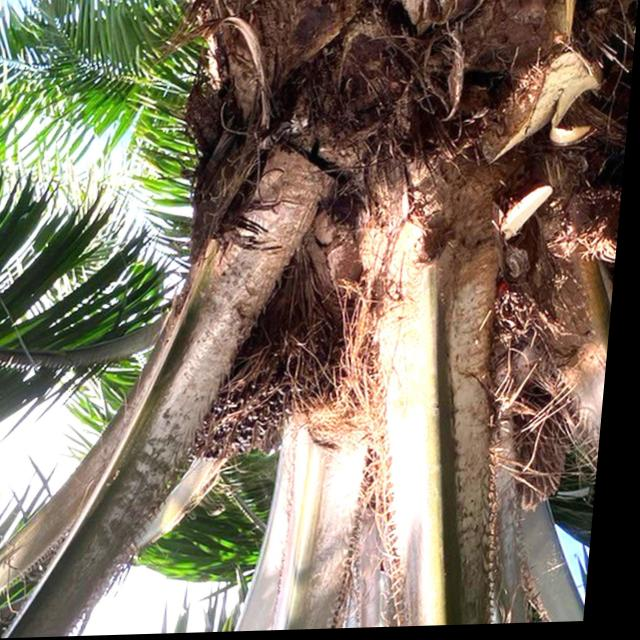unripe: (191, 261, 344, 477)
